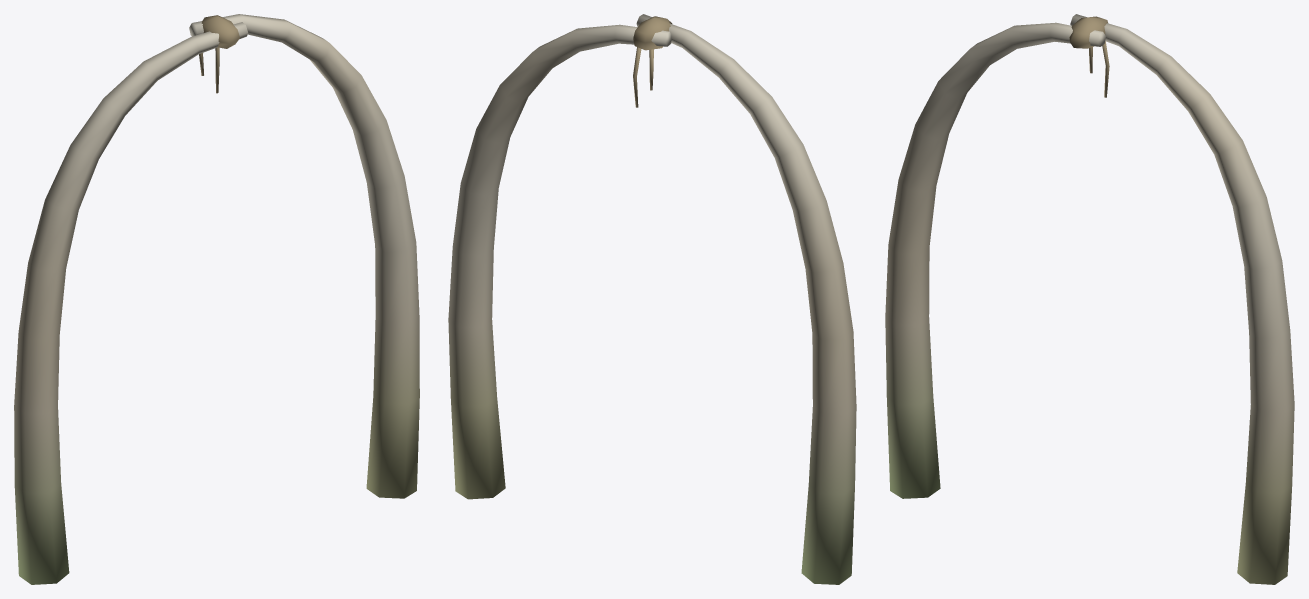
Rendered from east_ribarch.glb.
The picture shows the model from 3 angles, left to right: view 1: azimuth 30°, elevation 25°; view 2: azimuth 150°, elevation 25°; view 3: azimuth 330°, elevation 25°; orthographic projection.
Parts seen in each view (by area): view 1: east_ribarch; view 2: east_ribarch; view 3: east_ribarch.
Part boxes in pixels (x1=…): east_ribarch: x1=14, y1=14, x2=419, y2=584; east_ribarch: x1=448, y1=14, x2=856, y2=584; east_ribarch: x1=885, y1=14, x2=1294, y2=584.
Size of the model in its own units: 5.98 by 7.45 by 0.7448.
